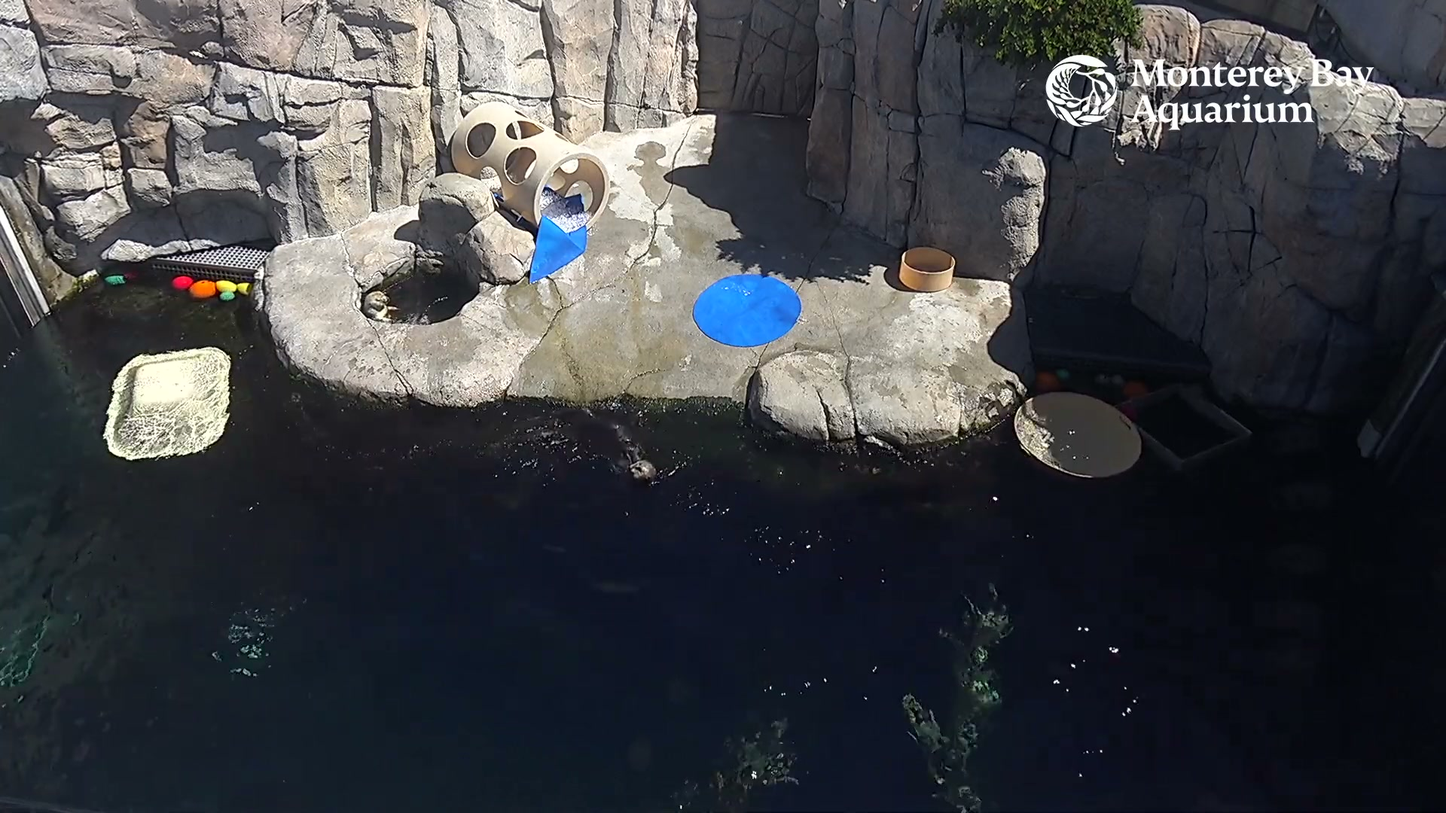Southern Sea Otter: (549, 412, 746, 538), (359, 264, 457, 350)
